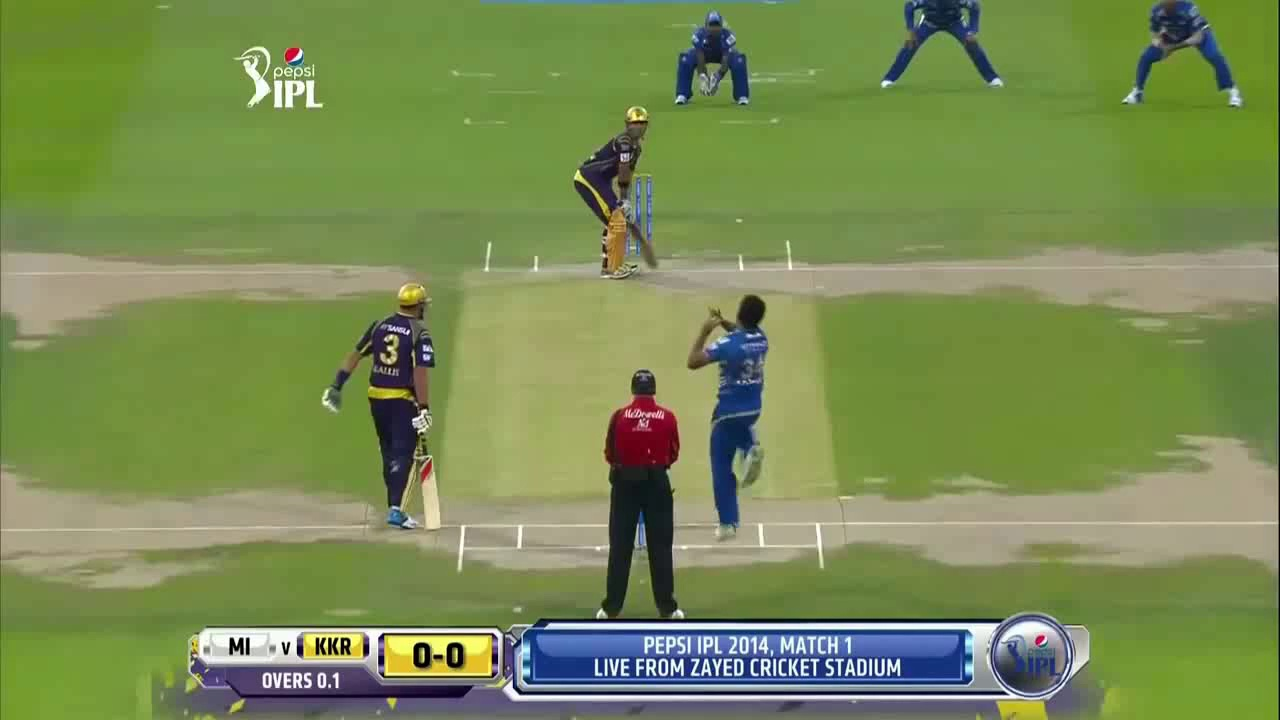bat: (417, 435, 442, 532)
stumps: (635, 173, 653, 227)
